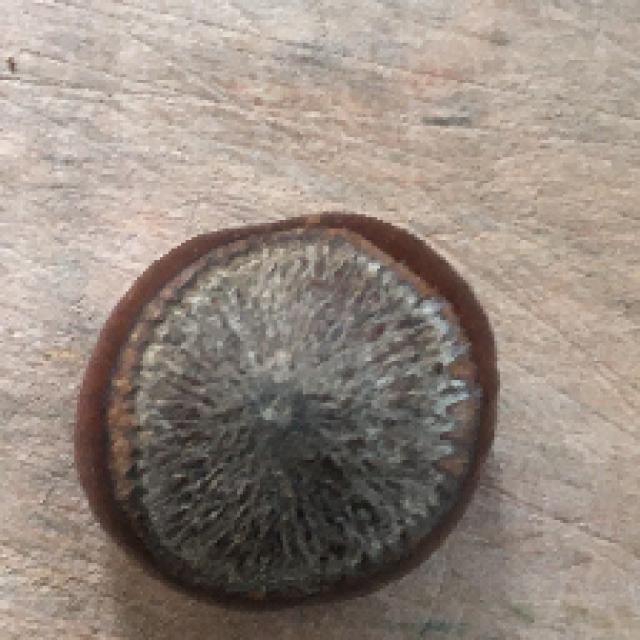damagedHazelnut: (79, 207, 507, 610)
